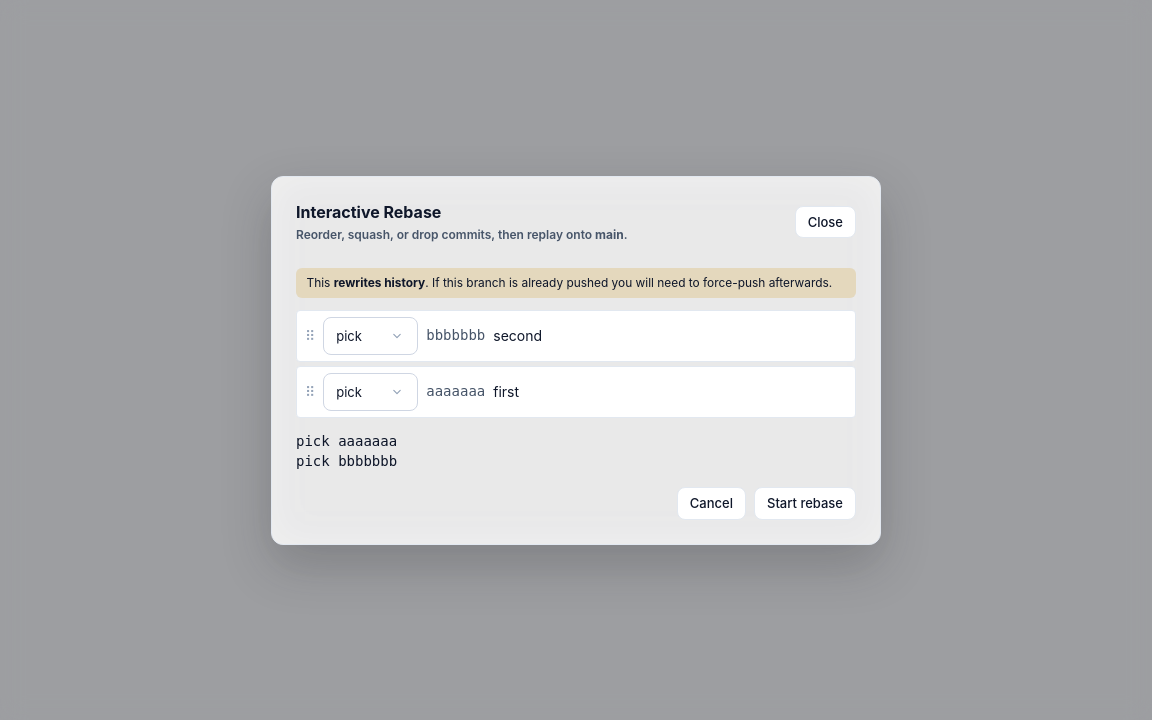
InteractiveRebaseDialog › blocks squashing the first applied (oldest) commit
Expected: the text "first" is shown, [493,383,519,400]
"first" is oldest → last displayed row → selects[1].
Select "squash" in the dropdown named "Action for first" at (371, 392), box [323,373,418,411]
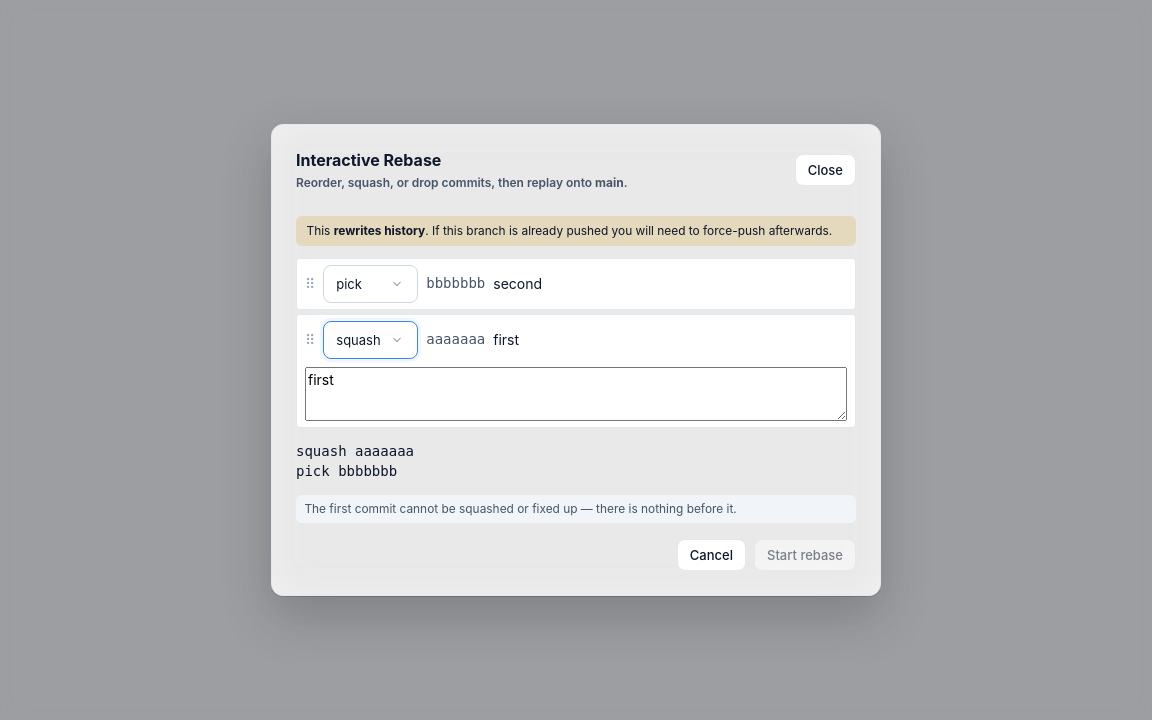
Now the text "cannot be squashed" is shown, box [304,501,737,516]
Now the button "Start rebase" is disabled, box [754,539,856,571]
